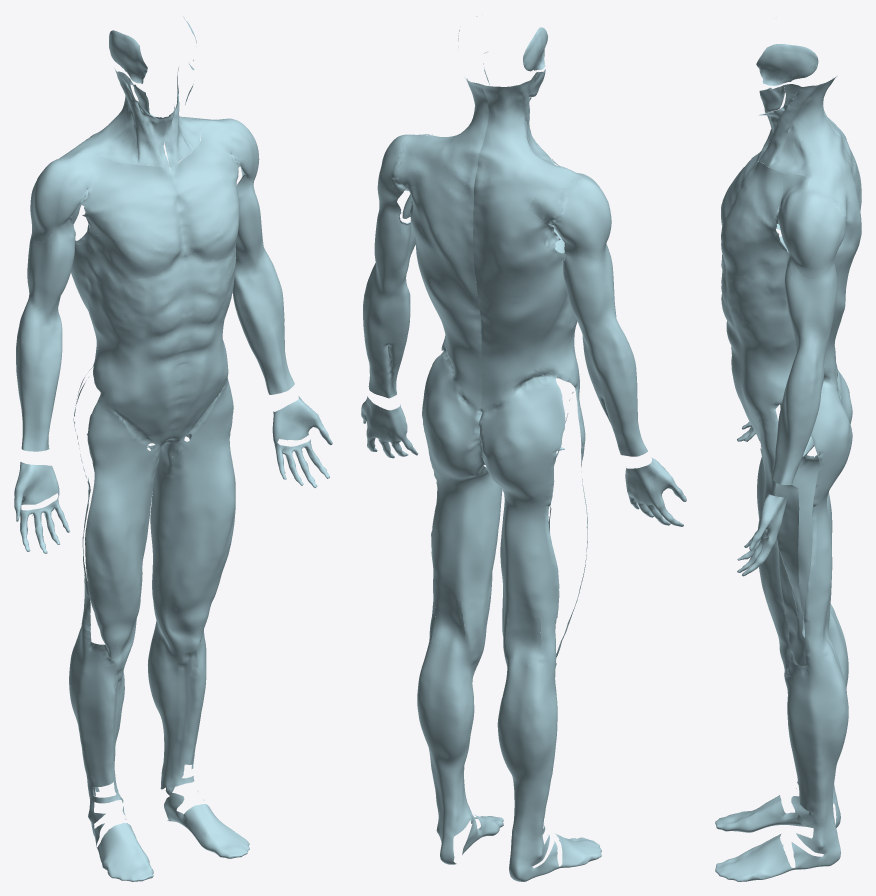
File: fascias.glb
3 renders of one model, left to right at view 1: azimuth 30°, elevation 25°; view 2: azimuth 150°, elevation 25°; view 3: azimuth 270°, elevation 25°, orthographic. The views are drawn at different scales.
Visible parts, largest first — view 1: Investing abdominal fascia.r, Fascia lata.l, Fascia lata.r, Crural fascia.l, Crural fascia.r, Pectoral fascia.r, Investing abdominal fascia.l, Pectoral fascia.l, Antebrachial fascia.r, Antebrachial fascia.l, Superficial investing cervical fascia.r, Deltoid fascia.r (+7 smaller); view 2: Investing abdominal fascia.r, Fascia lata.r, Fascia lata.l, Crural fascia.r, Investing abdominal fascia.l, Crural fascia.l, Superficial investing cervical fascia.r, Antebrachial fascia.r, Antebrachial fascia.l, Deltoid fascia.r, Superficial investing cervical fascia.l, Brachial fascia.r (+7 smaller); view 3: Investing abdominal fascia.l, Crural fascia.l, Fascia lata.l, Superficial investing cervical fascia.l, Deltoid fascia.l, Pectoral fascia.l, Antebrachial fascia.l, Fascia lata.r, Brachial fascia.l, Crural fascia.r, Medial femoral intermuscular septum.l, Superficial layer of temporal fascia.l (+7 smaller).
Boxes of the visible parts, <box> form: Investing abdominal fascia.r: <box>71,223,187,444</box>; Fascia lata.l: <box>147,378,235,627</box>; Fascia lata.r: <box>73,367,167,648</box>; Crural fascia.l: <box>148,611,249,858</box>; Crural fascia.r: <box>69,627,153,881</box>; Pectoral fascia.r: <box>79,162,184,279</box>; Investing abdominal fascia.l: <box>169,248,236,439</box>; Pectoral fascia.l: <box>169,141,240,259</box>; Antebrachial fascia.r: <box>16,300,62,451</box>; Antebrachial fascia.l: <box>232,247,294,394</box>; Superficial investing cervical fascia.r: <box>58,68,169,167</box>; Deltoid fascia.r: <box>30,152,114,241</box>; Investing abdominal fascia.r: <box>473,193,579,414</box>; Fascia lata.r: <box>479,377,587,667</box>; Fascia lata.l: <box>422,351,502,647</box>; Crural fascia.r: <box>497,655,601,881</box>; Investing abdominal fascia.l: <box>405,163,482,412</box>; Crural fascia.l: <box>417,639,503,864</box>; Superficial investing cervical fascia.r: <box>474,72,576,203</box>; Antebrachial fascia.r: <box>581,317,647,456</box>; Antebrachial fascia.l: <box>363,263,410,398</box>; Deltoid fascia.r: <box>527,159,611,260</box>; Superficial investing cervical fascia.l: <box>403,78,488,194</box>; Brachial fascia.r: <box>561,238,616,335</box>; Investing abdominal fascia.l: <box>721,184,861,439</box>; Crural fascia.l: <box>715,648,848,881</box>; Fascia lata.l: <box>757,380,852,666</box>; Superficial investing cervical fascia.l: <box>759,76,855,195</box>; Deltoid fascia.l: <box>778,173,850,279</box>; Pectoral fascia.l: <box>721,161,783,276</box>; Antebrachial fascia.l: <box>771,339,827,484</box>; Fascia lata.r: <box>757,368,852,626</box>; Brachial fascia.l: <box>784,251,837,348</box>; Crural fascia.r: <box>715,610,848,832</box>; Medial femoral intermuscular septum.l: <box>775,483,804,623</box>; Superficial layer of temporal fascia.l: <box>756,44,818,85</box>.
Bounding box in the file's own units: 0.6708 × 1.66 × 0.2686.
